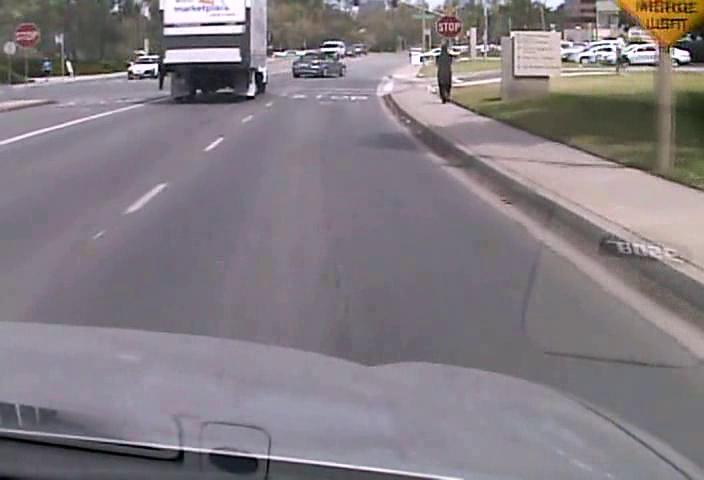stop: (437, 14, 461, 39)
